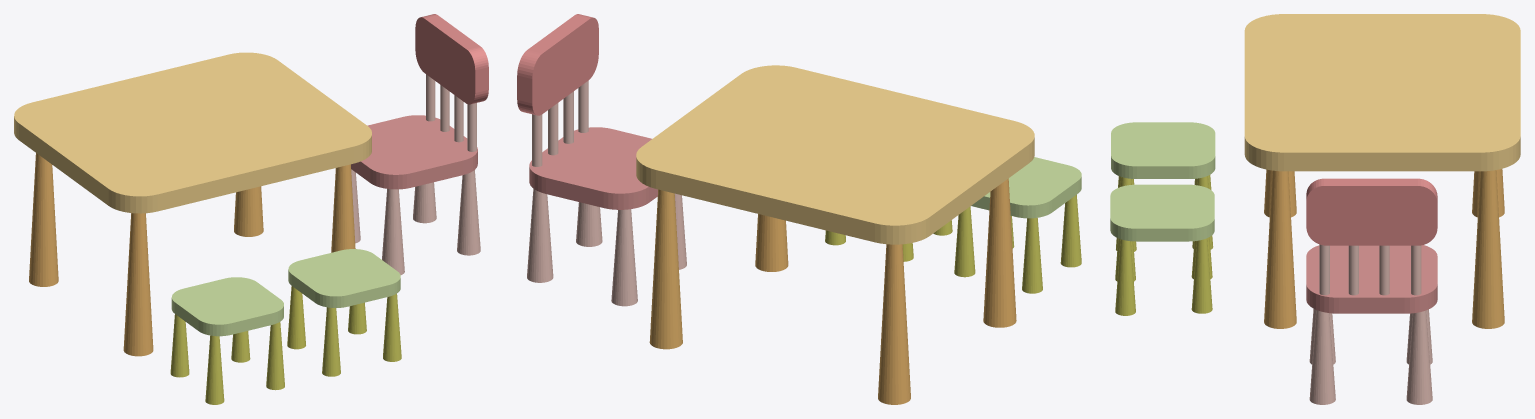
File: PicknickAreaChildren.fbx
The picture shows the model from 3 angles, left to right: view 1: azimuth 30°, elevation 25°; view 2: azimuth 150°, elevation 25°; view 3: azimuth 270°, elevation 25°; orthographic projection. The views are drawn at different scales.
Parts seen in each view (by area): view 1: Cube.010; view 2: Cube.010; view 3: Cube.010.
Part boxes in pixels (x1,y1,x2,y2): Cube.010: (14, 14, 488, 404); Cube.010: (517, 14, 1081, 404); Cube.010: (1110, 14, 1520, 404).
Bounding box in the file's own units: 95.89 × 47.66 × 79.49.
